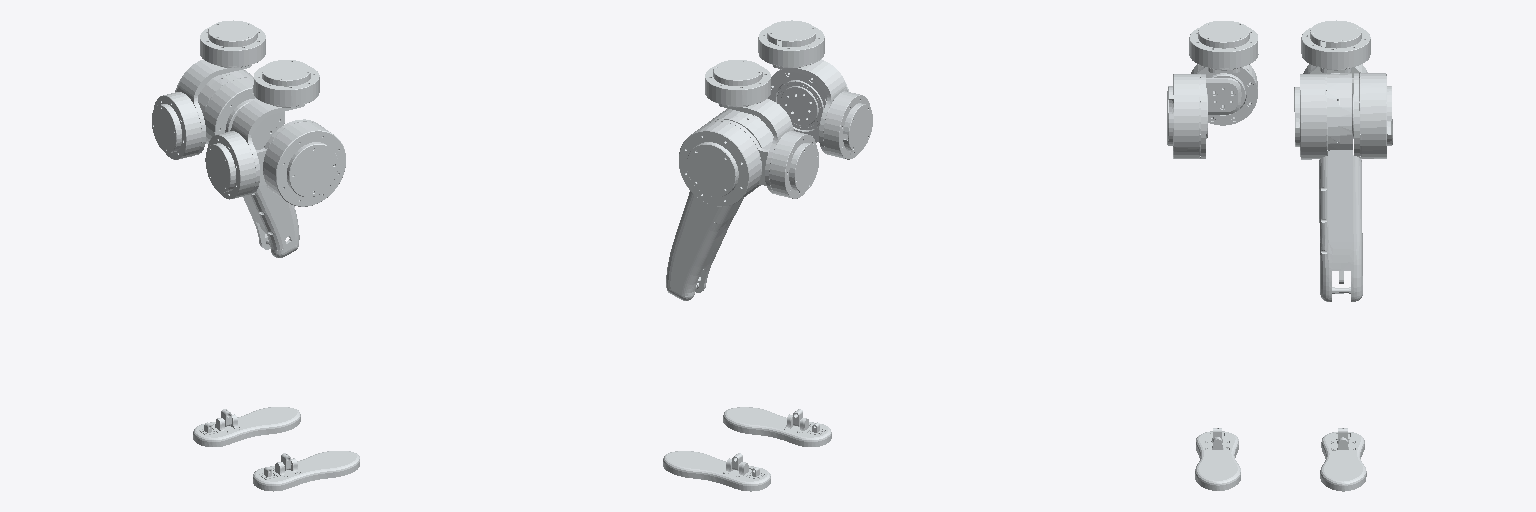
robot.urdf — VLAI_humanoid:
<?xml version="1.0" encoding="utf-8"?>
<!-- This URDF was automatically created by SolidWorks to URDF Exporter! Originally created by [author] ([email redacted]) 
     Commit Version: 1.6.0-4-g7f85cfe  Build Version: 1.6.7995.38578
     For more information, please see http://wiki.ros.org/sw_urdf_exporter -->
<robot
  name="VLAI_humanoid">
  <mujoco>
    <compiler meshdir="../meshes" discardvisual="false" />
  </mujoco>
  <link
    name="base_link">
    <inertial>
      <origin
        xyz="0.001426 -6.1639E-05 0.19623"
        rpy="0 0 0" />
      <mass
        value="21.95398" />
      <inertia
        ixx="0.27034"
        ixy="-3.7467E-06"
        ixz="0.00064786"
        iyy="0.16671"
        iyz="2.7755E-05"
        izz="0.11219" />
    </inertial>
    <visual>
      <origin
        xyz="0 0 0"
        rpy="0 0 0" />
      <geometry>
        <mesh
          filename="../meshes/base_link.STL" />
      </geometry>
      <material
        name="">
        <color
          rgba="0.89804 0.91765 0.92941 1" />
      </material>
    </visual>
    <collision>
      <origin
        xyz="0 0 0"
        rpy="0 0 0" />
      <geometry>
        <mesh
          filename="../meshes/base_link.STL" />
      </geometry>
    </collision>
  </link>
  <link
    name="arm_r1_link1">
    <inertial>
      <origin
        xyz="-0.0057802 -0.0020249 -0.00072745"
        rpy="0 0 0" />
      <mass
        value="0.43322" />
      <inertia
        ixx="0.00012291"
        ixy="-3.0937E-05"
        ixz="-9.4478E-06"
        iyy="0.00011143"
        iyz="-1.3141E-05"
        izz="0.00013652" />
    </inertial>
    <visual>
      <origin
        xyz="0 0 0"
        rpy="0 0 0" />
      <geometry>
        <mesh
          filename="../meshes/ arm_r1_link1.STL" />
      </geometry>
      <material
        name="">
        <color
          rgba="0.89804 0.91765 0.92941 1" />
      </material>
    </visual>
    <collision>
      <origin
        xyz="0 0 0"
        rpy="0 0 0" />
      <geometry>
        <mesh
          filename="../meshes/ arm_r1_link1.STL" />
      </geometry>
    </collision>
  </link>
  <joint
    name="arm_r1_joint1"
    type="fixed">
    <origin
      xyz="0 -0.13063 0.25938"
      rpy="0 0 0" />
    <parent
      link="base_link" />
    <child
      link="arm_r1_link1" />
    <axis
      xyz="0 -1 -0.00051801" />
    <limit
      lower="-3.1"
      upper="3.1"
      effort="7"
      velocity="5" />
  </joint>
  <link
    name="arm_r2_link2">
    <inertial>
      <origin
        xyz="0.107 0.012299 -0.11222"
        rpy="0 0 0" />
      <mass
        value="3.62597" />
      <inertia
        ixx="0.020204"
        ixy="-8.6209E-08"
        ixz="1.0488E-05"
        iyy="0.019093"
        iyz="0.00018377"
        izz="0.0017737" />
    </inertial>
    <visual>
      <origin
        xyz="0 0 0"
        rpy="0 0 0" />
      <geometry>
        <mesh
          filename="../meshes/arm_r2_link2.STL" />
      </geometry>
      <material
        name="">
        <color
          rgba="0.89804 0.91765 0.92941 1" />
      </material>
    </visual>
    <collision>
      <origin
        xyz="0 0 0"
        rpy="0 0 0" />
      <geometry>
        <mesh
          filename="../meshes/arm_r2_link2.STL" />
      </geometry>
    </collision>
  </link>
  <joint
    name="arm_r2_joint2"
    type="fixed">
    <origin
      xyz="-0.01905 -0.047495 -0.0088799"
      rpy="0 0 0" />
    <parent
      link="arm_r1_link1" />
    <child
      link="arm_r2_link2" />
    <axis
      xyz="1 0 0" />
    <limit
      lower="-3.1"
      upper="0"
      effort="7"
      velocity="5" />
  </joint>
  <link
    name="arm_r3_link3 ">
    <inertial>
      <origin
        xyz="0.076321 -0.069713 -0.008762"
        rpy="0 0 0" />
      <mass
        value="2.5778" />
      <inertia
        ixx="0.0011148"
        ixy="-9.7377E-06"
        ixz="0.0013559"
        iyy="0.0096138"
        iyz="2.3517E-06"
        izz="0.0090859" />
    </inertial>
    <visual>
      <origin
        xyz="0 0 0"
        rpy="0 0 0" />
      <geometry>
        <mesh
          filename="../meshes/ arm_r3_link3 .STL" />
      </geometry>
      <material
        name="">
        <color
          rgba="0.89804 0.91765 0.92941 1" />
      </material>
    </visual>
    <collision>
      <origin
        xyz="0 0 0"
        rpy="0 0 0" />
      <geometry>
        <mesh
          filename="../meshes/ arm_r3_link3 .STL" />
      </geometry>
    </collision>
  </link>
  <joint
    name="arm_r3_joint3 "
    type="fixed">
    <origin
      xyz="0.0229 0.023411 -0.23505"
      rpy="0 0 0" />
    <parent
      link="arm_r2_link2" />
    <child
      link="arm_r3_link3 " />
    <axis
      xyz="0 -1 -0.00050756" />
    <limit
      lower="-2.6"
      upper="0.52"
      effort="7"
      velocity="5" />
  </joint>
  <link
    name="arm_L1_link4">
    <inertial>
      <origin
        xyz="-0.0057636 0.0020257 -0.00075428"
        rpy="0 0 0" />
      <mass
        value="0.43322" />
      <inertia
        ixx="0.0001231"
        ixy="3.0937E-05"
        ixz="-9.5229E-06"
        iyy="0.0001114"
        iyz="1.3132E-05"
        izz="0.00013636" />
    </inertial>
    <visual>
      <origin
        xyz="0 0 0"
        rpy="0 0 0" />
      <geometry>
        <mesh
          filename="../meshes/arm_L1_link4.STL" />
      </geometry>
      <material
        name="">
        <color
          rgba="0.89804 0.91765 0.92941 1" />
      </material>
    </visual>
    <collision>
      <origin
        xyz="0 0 0"
        rpy="0 0 0" />
      <geometry>
        <mesh
          filename="../meshes/arm_L1_link4.STL" />
      </geometry>
    </collision>
  </link>
  <joint
    name="arm_L1_joint4  "
    type="fixed">
    <origin
      xyz="0 0.13037 0.25952"
      rpy="0 0 0" />
    <parent
      link="base_link" />
    <child
      link="arm_L1_link4" />
    <axis
      xyz="0 -1 -0.00051801" />
    <limit
      lower="-3.1"
      upper="3.1"
      effort="7"
      velocity="5" />
  </joint>
  <link
    name="arm_L2_link5">
    <inertial>
      <origin
        xyz="0.11002 -0.014202 -0.11149"
        rpy="0 0 0" />
      <mass
        value="3.08959" />
      <inertia
        ixx="0.017088"
        ixy="-9.0755E-08"
        ixz="-6.5469E-07"
        iyy="0.016178"
        iyz="-0.00011848"
        izz="0.0014708" />
    </inertial>
    <visual>
      <origin
        xyz="0 0 0"
        rpy="0 0 0" />
      <geometry>
        <mesh
          filename="../meshes/arm_L2_link5.STL" />
      </geometry>
      <material
        name="">
        <color
          rgba="0.89804 0.91765 0.92941 1" />
      </material>
    </visual>
    <collision>
      <origin
        xyz="0 0 0"
        rpy="0 0 0" />
      <geometry>
        <mesh
          filename="../meshes/arm_L2_link5.STL" />
      </geometry>
    </collision>
  </link>
  <joint
    name="arm_L2_joint5"
    type="fixed">
    <origin
      xyz="-0.01905 0.047504 -0.0088316"
      rpy="0 0 0" />
    <parent
      link="arm_L1_link4" />
    <child
      link="arm_L2_link5" />
    <axis
      xyz="1 0 0" />
    <limit
      lower="0"
      upper="3.1"
      effort="7"
      velocity="5" />
  </joint>
  <link
    name="arm_L3_link6">
    <inertial>
      <origin
        xyz="0.081839 0.055803 -0.010384"
        rpy="0 0 0" />
      <mass
        value="3.09128" />
      <inertia
        ixx="0.0013632"
        ixy="-6.2573E-05"
        ixz="0.0016992"
        iyy="0.011903"
        iyz="1.1057E-05"
        izz="0.011205" />
    </inertial>
    <visual>
      <origin
        xyz="0 0 0"
        rpy="0 0 0" />
      <geometry>
        <mesh
          filename="../meshes/arm_L3_link6.STL" />
      </geometry>
      <material
        name="">
        <color
          rgba="0.89804 0.91765 0.92941 1" />
      </material>
    </visual>
    <collision>
      <origin
        xyz="0 0 0"
        rpy="0 0 0" />
      <geometry>
        <mesh
          filename="../meshes/arm_L3_link6.STL" />
      </geometry>
    </collision>
  </link>
  <joint
    name="arm_L3_joint6"
    type="fixed">
    <origin
      xyz="0.023 -0.023172 -0.23508"
      rpy="0 0 0" />
    <parent
      link="arm_L2_link5" />
    <child
      link="arm_L3_link6" />
    <axis
      xyz="0 1 0.00050756" />
    <limit
      lower="-0.52"
      upper="2.6"
      effort="7"
      velocity="5" />
  </joint>
  <link
    name="leg_R1_link7">
    <inertial>
      <origin
        xyz="-0.047978 -0.00060444 -0.034706"
        rpy="0 0 0" />
      <mass
        value="1.6872" />
      <inertia
        ixx="0.0013034"
        ixy="1.2226E-06"
        ixz="-0.00018794"
        iyy="0.0011617"
        iyz="-2.2086E-06"
        izz="0.0011385" />
    </inertial>
    <visual>
      <origin
        xyz="0 0 0"
        rpy="0 0 0" />
      <geometry>
        <mesh
          filename="../meshes/ leg_R1_link7.STL" />
      </geometry>
      <material
        name="">
        <color
          rgba="0.89804 0.91765 0.92941 1" />
      </material>
    </visual>
    <collision>
      <origin
        xyz="0 0 0"
        rpy="0 0 0" />
      <geometry>
        <mesh
          filename="../meshes/ leg_R1_link7.STL" />
      </geometry>
    </collision>
  </link>
  <joint
    name="leg_R1_joint7"
    type="revolute">
    <origin
      xyz="0 -0.080999 -0.0025411"
      rpy="0 0 0" />
    <parent
      link="base_link" />
    <child
      link="leg_R1_link7" />
    <axis
      xyz="0 -0.00051801 1" />
    <limit
      lower="-0.28"
      upper="0.46"
      effort="36"
      velocity="5" />
  </joint>
  <link
    name="leg_R2_link8">
    <inertial>
      <origin
        xyz="0.073875 -0.042566 0.00021144"
        rpy="0 0 0" />
      <mass
        value="1.81572" />
      <inertia
        ixx="0.00095814"
        ixy="5.8645E-05"
        ixz="1.8884E-06"
        iyy="0.0019411"
        iyz="-6.3365E-06"
        izz="0.0011543" />
    </inertial>
    <visual>
      <origin
        xyz="0 0 0"
        rpy="0 0 0" />
      <geometry>
        <mesh
          filename="../meshes/leg_R2_link8.STL" />
      </geometry>
      <material
        name="">
        <color
          rgba="0.89804 0.91765 0.92941 1" />
      </material>
    </visual>
    <collision>
      <origin
        xyz="0 0 0"
        rpy="0 0 0" />
      <geometry>
        <mesh
          filename="../meshes/leg_R2_link8.STL" />
      </geometry>
    </collision>
  </link>
  <joint
    name="leg_R2_joint8"
    type="revolute">
    <origin
      xyz="-0.079245 -0.00081545 -0.087803"
      rpy="0 0 0" />
    <parent
      link="leg_R1_link7" />
    <child
      link="leg_R2_link8" />
    <axis
      xyz="-0.99994 -0.010852 0" />
    <limit
      lower="-0.3"
      upper="0.2"
      effort="120"
      velocity="5" />
  </joint>
  <link
    name="leg_R3_link9">
    <inertial>
      <origin
        xyz="0.024319 0.0068055 -0.086184"
        rpy="0 0 0" />
      <mass
        value="3.86581" />
      <inertia
        ixx="0.014393"
        ixy="9.6428E-05"
        ixz="0.004418"
        iyy="0.017912"
        iyz="-0.00029627"
        izz="0.0038321" />
    </inertial>
    <visual>
      <origin
        xyz="0 0 0"
        rpy="0 0 0" />
      <geometry>
        <mesh
          filename="../meshes/leg_R3_link9.STL" />
      </geometry>
      <material
        name="">
        <color
          rgba="0.79216 0.81961 0.93333 1" />
      </material>
    </visual>
    <collision>
      <origin
        xyz="0 0 0"
        rpy="0 0 0" />
      <geometry>
        <mesh
          filename="../meshes/leg_R3_link9.STL" />
      </geometry>
    </collision>
  </link>
  <joint
    name="leg_R3_joint9"
    type="revolute">
    <origin
      xyz="0.090654 -0.029017 0.00022094"
      rpy="0 0 0" />
    <parent
      link="leg_R2_link8" />
    <child
      link="leg_R3_link9" />
    <axis
      xyz="0.010852 -0.99991 0.007347" />
    <limit
      lower="-0.3"
      upper="0.2"
      effort="120"
      velocity="5" />
  </joint>
  <link
    name="leg_R4_link10">
    <inertial>
      <origin
        xyz="-0.033346 -0.0012327 -0.11954"
        rpy="0 0 0" />
      <mass
        value="1.16434" />
      <inertia
        ixx="0.0033972"
        ixy="-8.0392E-06"
        ixz="-0.00088362"
        iyy="0.0035446"
        iyz="-3.1253E-05"
        izz="0.00058322" />
    </inertial>
    <visual>
      <origin
        xyz="0 0 0"
        rpy="0 0 0" />
      <geometry>
        <mesh
          filename="../meshes/leg_R4_link10.STL" />
      </geometry>
      <material
        name="">
        <color
          rgba="0.89804 0.91765 0.92941 1" />
      </material>
    </visual>
    <collision>
      <origin
        xyz="0 0 0"
        rpy="0 0 0" />
      <geometry>
        <mesh
          filename="../meshes/leg_R4_link10.STL" />
      </geometry>
    </collision>
  </link>
  <joint
    name="leg_R4_joint10"
    type="revolute">
    <origin
      xyz="0.064379 0.023415 -0.24307"
      rpy="0 0 0" />
    <parent
      link="leg_R3_link9" />
    <child
      link="leg_R4_link10" />
    <axis
      xyz="-0.010852 0.99991 -0.007347" />
    <limit
      lower="0"
      upper="1.4"
      effort="7"
      velocity="5" />
  </joint>
  <link
    name="leg_R5_link11">
    <inertial>
      <origin
        xyz="0.03541 0.00029651 -0.02836"
        rpy="0 0 0" />
      <mass
        value="0.37577" />
      <inertia
        ixx="0.00010276"
        ixy="-7.9812E-06"
        ixz="-3.5515E-06"
        iyy="0.0008384"
        iyz="-4.0147E-08"
        izz="0.00092829" />
    </inertial>
    <visual>
      <origin
        xyz="0 0 0"
        rpy="0 0 0" />
      <geometry>
        <mesh
          filename="../meshes/ leg_R5_link11.STL" />
      </geometry>
      <material
        name="">
        <color
          rgba="0.89804 0.91765 0.92941 1" />
      </material>
    </visual>
    <collision>
      <origin
        xyz="0 0 0"
        rpy="0 0 0" />
      <geometry>
        <mesh
          filename="../meshes/ leg_R5_link11.STL" />
      </geometry>
    </collision>
  </link>
  <joint
    name="leg_R5_joint11"
    type="revolute">
    <origin
      xyz="-0.081907 -0.0028183 -0.26259"
      rpy="0 0 0" />
    <parent
      link="leg_R4_link10" />
    <child
      link="leg_R5_link11" />
    <axis
      xyz="0.010852 -0.99991 0.007347" />
    <limit
      lower="-0.35"
      upper="0.43"
      effort="7"
      velocity="5" />
  </joint>
  <link
    name="leg_L1_link 12">
    <inertial>
      <origin
        xyz="-0.048018 -0.00014833 -0.04116"
        rpy="0 0 0" />
      <mass
        value="1.6872" />
      <inertia
        ixx="0.0013041"
        ixy="2.5971E-07"
        ixz="-0.000188"
        iyy="0.0011604"
        iyz="-9.9919E-07"
        izz="0.0011391" />
    </inertial>
    <visual>
      <origin
        xyz="0 0 0"
        rpy="0 0 0" />
      <geometry>
        <mesh
          filename="../meshes/leg_L1_link 12.STL" />
      </geometry>
      <material
        name="">
        <color
          rgba="0.89804 0.91765 0.92941 1" />
      </material>
    </visual>
    <collision>
      <origin
        xyz="0 0 0"
        rpy="0 0 0" />
      <geometry>
        <mesh
          filename="../meshes/leg_L1_link 12.STL" />
      </geometry>
    </collision>
  </link>
  <joint
    name="leg_L1_joint12"
    type="revolute">
    <origin
      xyz="0 0.080998 0.0040411"
      rpy="0 0 0" />
    <parent
      link="base_link" />
    <child
      link="leg_L1_link 12" />
    <axis
      xyz="0 0.00050756 -1" />
    <limit
      lower="-0.46"
      upper="0.28"
      effort="36"
      velocity="5" />
  </joint>
  <link
    name="leg_L2_link 13">
    <inertial>
      <origin
        xyz="0.073209 0.043621 0.00041346"
        rpy="0 0 0" />
      <mass
        value="1.81572" />
      <inertia
        ixx="0.00096235"
        ixy="-7.2448E-05"
        ixz="-6.7852E-07"
        iyy="0.0019392"
        iyz="7.3633E-06"
        izz="0.0011519" />
    </inertial>
    <visual>
      <origin
        xyz="0 0 0"
        rpy="0 0 0" />
      <geometry>
        <mesh
          filename="../meshes/leg_L2_link 13.STL" />
      </geometry>
      <material
        name="">
        <color
          rgba="0.89804 0.91765 0.92941 1" />
      </material>
    </visual>
    <collision>
      <origin
        xyz="0 0 0"
        rpy="0 0 0" />
      <geometry>
        <mesh
          filename="../meshes/leg_L2_link 13.STL" />
      </geometry>
    </collision>
  </link>
  <joint
    name="leg_L2_joint13"
    type="revolute">
    <origin
      xyz="-0.07925 -0.00023068 -0.094303"
      rpy="0 0 0" />
    <parent
      link="leg_L1_link 12" />
    <child
      link="leg_L2_link 13" />
    <axis
      xyz="-0.99999 -0.0035147 0" />
    <limit
      lower="-0.2"
      upper="0.3"
      effort="120"
      velocity="5" />
  </joint>
  <link
    name="leg_L3_link 14">
    <inertial>
      <origin
        xyz="0.026087 -0.030326 -0.090996"
        rpy="0 0 0" />
      <mass
        value="4.30102" />
      <inertia
        ixx="0.016999"
        ixy="-5.3693E-05"
        ixz="0.0052509"
        iyy="0.021076"
        iyz="0.00016202"
        izz="0.0044374" />
    </inertial>
    <visual>
      <origin
        xyz="0 0 0"
        rpy="0 0 0" />
      <geometry>
        <mesh
          filename="../meshes/leg_L3_link 14.STL" />
      </geometry>
      <material
        name="">
        <color
          rgba="0.89804 0.91765 0.92941 1" />
      </material>
    </visual>
    <collision>
      <origin
        xyz="0 0 0"
        rpy="0 0 0" />
      <geometry>
        <mesh
          filename="../meshes/leg_L3_link 14.STL" />
      </geometry>
    </collision>
  </link>
  <joint
    name="leg_L3_joint14"
    type="revolute">
    <origin
      xyz="0.090228 0.030316 0.00028276"
      rpy="0 0 0" />
    <parent
      link="leg_L2_link 13" />
    <child
      link="leg_L3_link 14" />
    <axis
      xyz="-0.0035146 0.99995 0.0094213" />
    <limit
      lower="-1.5"
      upper="0.65"
      effort="120"
      velocity="5" />
  </joint>
  <link
    name="leg_L4_link15">
    <inertial>
      <origin
        xyz="-0.032966 0.0010612 -0.11969"
        rpy="0 0 0" />
      <mass
        value="1.16413" />
      <inertia
        ixx="0.0034029"
        ixy="7.7836E-06"
        ixz="-0.00087457"
        iyy="0.0035446"
        iyz="2.4612E-05"
        izz="0.00057757" />
    </inertial>
    <visual>
      <origin
        xyz="0 0 0"
        rpy="0 0 0" />
      <geometry>
        <mesh
          filename="../meshes/leg_L4_link15.STL" />
      </geometry>
      <material
        name="">
        <color
          rgba="0.64706 0.61961 0.58824 1" />
      </material>
    </visual>
    <collision>
      <origin
        xyz="0 0 0"
        rpy="0 0 0" />
      <geometry>
        <mesh
          filename="../meshes/leg_L4_link15.STL" />
      </geometry>
    </collision>
  </link>
  <joint
    name="leg_L4_joint15"
    type="revolute">
    <origin
      xyz="0.064685 -0.021983 -0.24313"
      rpy="0 0 0" />
    <parent
      link="leg_L3_link 14" />
    <child
      link="leg_L4_link15" />
    <axis
      xyz="-0.0035146 0.99995 0.0094213" />
    <limit
      lower="0"
      upper="1.4"
      effort="7"
      velocity="5" />
  </joint>
  <link
    name="leg_L5_link16">
    <inertial>
      <origin
        xyz="0.03541 0.00023671 -0.02836"
        rpy="0 0 0" />
      <mass
        value="0.37577" />
      <inertia
        ixx="0.00010269"
        ixy="-2.5829E-06"
        ixz="-3.5517E-06"
        iyy="0.00083848"
        iyz="-1.1578E-08"
        izz="0.00092829" />
    </inertial>
    <visual>
      <origin
        xyz="0 0 0"
        rpy="0 0 0" />
      <geometry>
        <mesh
          filename="../meshes/leg_L5_link16.STL" />
      </geometry>
      <material
        name="">
        <color
          rgba="0.89804 0.91765 0.92941 1" />
      </material>
    </visual>
    <collision>
      <origin
        xyz="0 0 0"
        rpy="0 0 0" />
      <geometry>
        <mesh
          filename="../meshes/leg_L5_link16.STL" />
      </geometry>
    </collision>
  </link>
  <joint
    name="leg_L5_joint16"
    type="revolute">
    <origin
      xyz="-0.081063 0.0021916 -0.26285"
      rpy="0 0 0" />
    <parent
      link="leg_L4_link15" />
    <child
      link="leg_L5_link16" />
    <axis
      xyz="0.0035146 -0.99995 -0.0094213" />
    <limit
      lower="-0.35"
      upper="0.43"
      effort="7"
      velocity="5" />
  </joint>
</robot>

--- Render facts (derived) ---
The picture shows the robot from 3 angles, left to right: view 1: azimuth 30°, elevation 25°; view 2: azimuth 150°, elevation 25°; view 3: azimuth 270°, elevation 25°; orthographic projection.
Model VLAI_humanoid with 17 links and 16 joints (10 revolute, 6 fixed), rooted at base_link, posed all joints at 0.
Visible links, largest first — view 1: leg_R1_link7, leg_L1_link 12, leg_R2_link8, leg_L3_link 14, leg_L5_link16, leg_R5_link11; view 2: leg_R1_link7, leg_L1_link 12, leg_L2_link 13, leg_L3_link 14, leg_R5_link11, leg_L5_link16, leg_R2_link8; view 3: leg_L3_link 14, leg_R2_link8, leg_R1_link7, leg_L2_link 13, leg_L1_link 12, leg_L5_link16, leg_R5_link11.
Link boxes in pixels (<box>): leg_R1_link7: <box>205,60,319,199</box>; leg_L1_link 12: <box>152,20,265,159</box>; leg_R2_link8: <box>255,119,345,206</box>; leg_L3_link 14: <box>198,70,299,257</box>; leg_L5_link16: <box>193,407,300,446</box>; leg_R5_link11: <box>253,451,359,491</box>; leg_R1_link7: <box>758,20,872,159</box>; leg_L1_link 12: <box>705,60,818,198</box>; leg_L2_link 13: <box>679,119,769,206</box>; leg_L3_link 14: <box>666,108,773,300</box>; leg_R5_link11: <box>723,407,831,446</box>; leg_L5_link16: <box>663,451,770,491</box>; leg_R2_link8: <box>768,59,848,142</box>; leg_L3_link 14: <box>1294,73,1362,301</box>; leg_R2_link8: <box>1167,74,1241,158</box>; leg_R1_link7: <box>1189,21,1258,125</box>; leg_L2_link 13: <box>1352,73,1392,158</box>; leg_L1_link 12: <box>1301,20,1370,77</box>; leg_L5_link16: <box>1320,428,1366,491</box>; leg_R5_link11: <box>1195,428,1240,490</box>.
Bounding box of the posed robot: 0.2425 × 0.326 × 0.6775 m (x, y, z).
Meshes: 17 distinct files referenced, 7 mesh visuals loaded (7 binary STL); not drawn: 10 (reference not matched to a file when rendering).